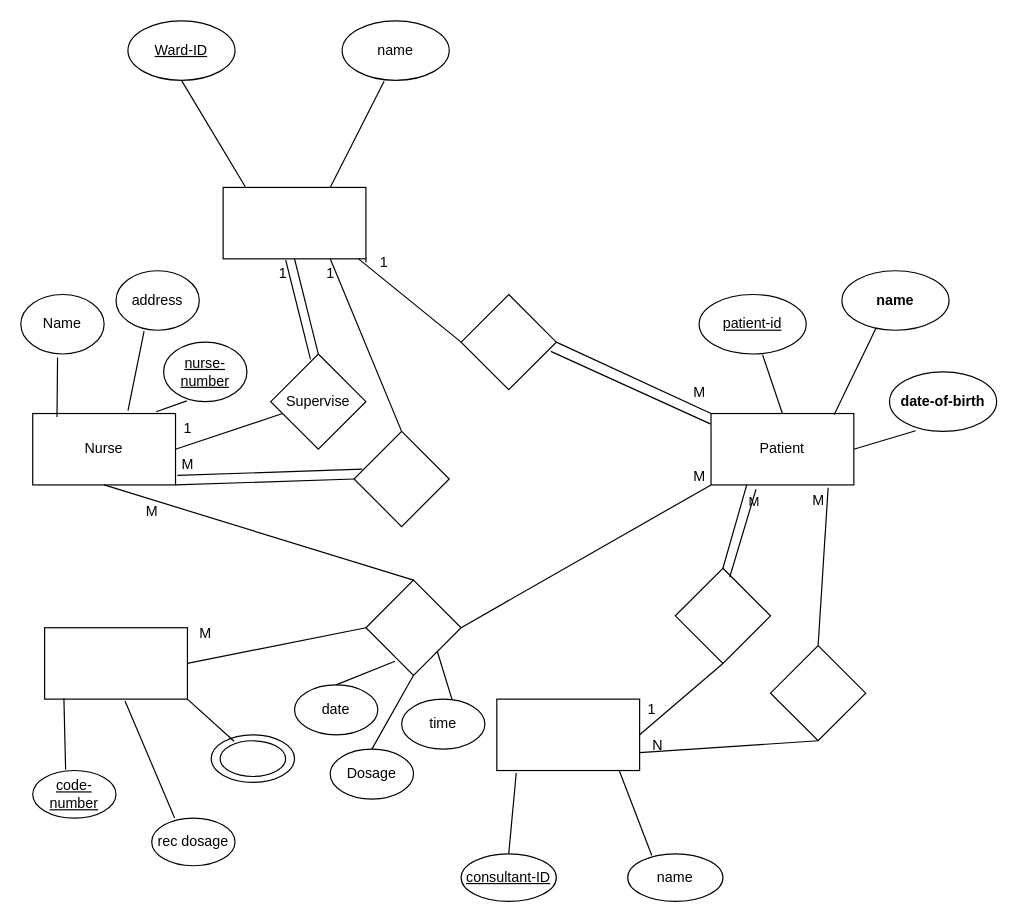
This 1017x922 diagram has some shape labels left out. The shapes that lost their labels are listed below. From the top down, each one's centre as x and y in pixels, then its label:
point (294, 222): Ward
point (508, 341): Host
point (401, 478): Serve
point (413, 627): Give drug
point (722, 615): Assign
point (115, 663): Drug
point (817, 692): Examine
point (568, 734): consultant
point (252, 758): brand-names
